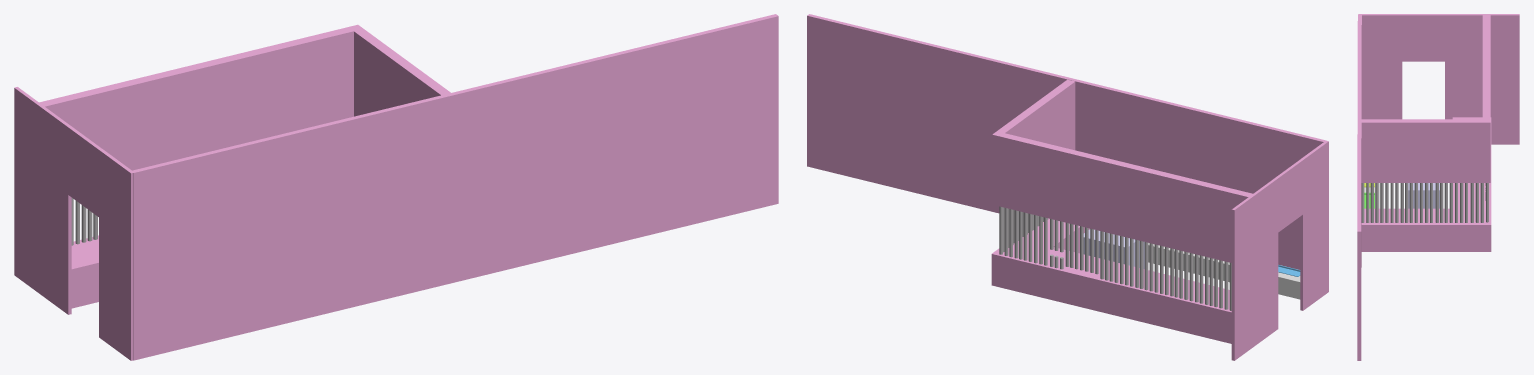
The model's file is meal_area2.dae.
3 views of the same model, side by side, from view 1: azimuth 30°, elevation 25°; view 2: azimuth 150°, elevation 25°; view 3: azimuth 270°, elevation 25° (orthographic). The views are drawn at different scales.
Parts seen in each view (by area): view 1: wall1, Cube.002, wall2.001, counter, Cylinder.009; view 2: wall1, Cube.002, wall2.001, Cylinder.009, counter, counter.002, kit, counter.001, Cylinder.004; view 3: wall2.001, Cube.002, counter.002, Cylinder.004, wall1, counter, counter.001, kit.
Boxes of the visible parts, box(x1,y1,x2,y2) form: wall1: box(131, 14, 778, 360); Cube.002: box(39, 24, 450, 170); wall2.001: box(14, 87, 134, 360); counter: box(71, 235, 98, 308); Cylinder.009: box(71, 198, 97, 245); wall1: box(807, 14, 1326, 269); Cube.002: box(992, 79, 1252, 262); wall2.001: box(1231, 140, 1328, 360); Cylinder.009: box(999, 206, 1231, 310); counter: box(1030, 247, 1231, 343); counter.002: box(991, 218, 1089, 294); kit: box(1148, 243, 1300, 299); counter.001: box(1083, 229, 1144, 268); Cylinder.004: box(1003, 207, 1048, 252); wall2.001: box(1358, 14, 1519, 144); Cube.002: box(1361, 15, 1490, 182); counter.002: box(1361, 208, 1491, 251); Cylinder.004: box(1361, 183, 1483, 222); wall1: box(1357, 15, 1361, 360); counter: box(1452, 117, 1491, 208); counter.001: box(1408, 183, 1439, 208); kit: box(1364, 183, 1380, 208).
Size of the model in its own units: 11.21 by 3.54 by 3.11.
